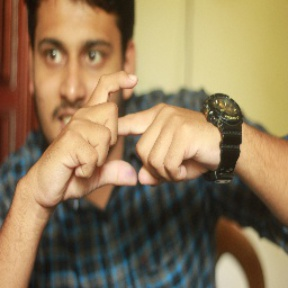E: (75, 72, 170, 190)
